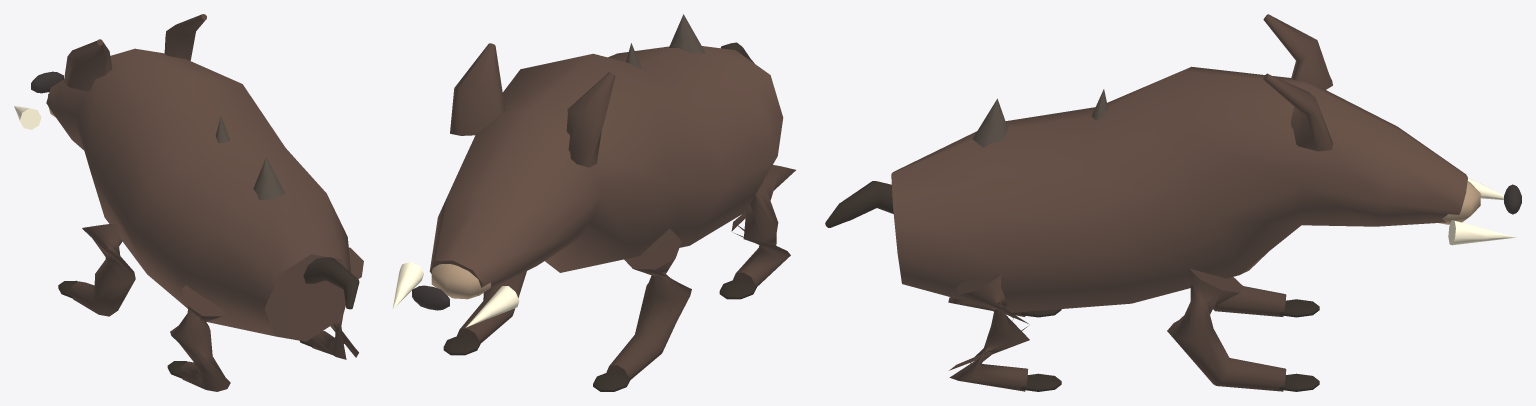
Rendered from boar_mobile.glb.
3 views of the same model, side by side, from view 1: azimuth 30°, elevation 25°; view 2: azimuth 150°, elevation 25°; view 3: azimuth 270°, elevation 25° (orthographic). The views are drawn at different scales.
Visible parts, largest first — view 1: BoarOrganicBody, Leg_LH, Leg_LF, Ear, Tail, Leg_RH, Ear2, BackBristle_00, Nose, Tusk_L; view 2: BoarOrganicBody, Leg_LF, Leg_LH, Ear2, Ear, Snout, Leg_RF, Tusk_L, Tusk_R, Nose, BackBristle_00, Paw_LH (+2 smaller); view 3: BoarOrganicBody, Leg_RF, Leg_RH, Ear2, Ear, Tail, Leg_LF, Tusk_R, BackBristle_00, Snout.
Part boxes in pixels (<box>): BoarOrganicBody: <box>46,48,350,341</box>; Leg_LH: <box>170,285,230,391</box>; Leg_LF: <box>70,224,135,316</box>; Ear: <box>63,39,112,91</box>; Tail: <box>303,257,359,309</box>; Leg_RH: <box>309,247,363,359</box>; Ear2: <box>164,14,206,60</box>; BackBristle_00: <box>253,157,285,199</box>; Nose: <box>31,71,63,93</box>; Tusk_L: <box>14,106,41,129</box>; BoarOrganicBody: <box>429,46,783,294</box>; Leg_LF: <box>606,228,691,379</box>; Leg_LH: <box>731,165,795,286</box>; Ear2: <box>450,43,505,135</box>; Ear: <box>566,72,615,167</box>; Snout: <box>431,264,491,299</box>; Leg_RF: <box>457,271,526,342</box>; Tusk_L: <box>465,286,519,327</box>; Tusk_R: <box>392,262,423,309</box>; Nose: <box>412,285,449,310</box>; BackBristle_00: <box>669,14,705,53</box>; Paw_LH: <box>719,279,756,299</box>; BoarOrganicBody: <box>891,66,1467,312</box>; Leg_RF: <box>1167,268,1286,391</box>; Leg_RH: <box>949,273,1029,391</box>; Ear2: <box>1263,73,1332,151</box>; Ear: <box>1263,14,1332,89</box>; Tail: <box>825,181,893,227</box>; Leg_LF: <box>1213,286,1286,316</box>; Tusk_R: <box>1448,220,1516,245</box>; BackBristle_00: <box>972,98,1007,147</box>; Snout: <box>1439,181,1480,224</box>.
Bounding box in the file's own units: 1.63 × 2.3 × 4.69.
